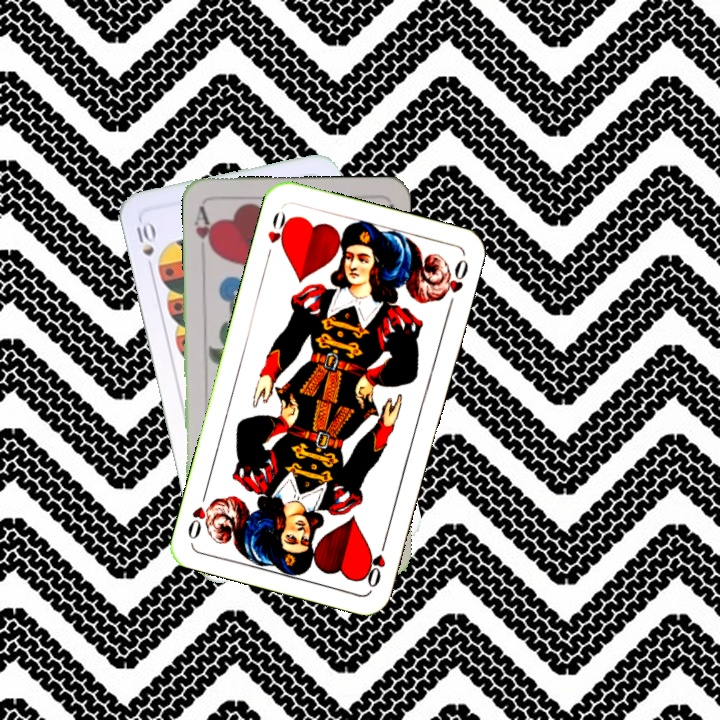HA: (190, 202, 216, 257)
HO: (360, 533, 390, 591), (262, 208, 294, 262)
S10: (132, 218, 157, 275)
